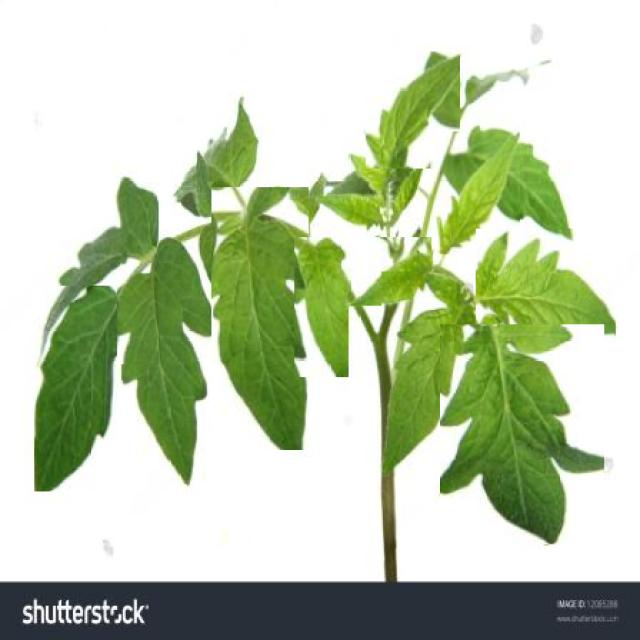Healthy: (440, 325, 604, 545), (212, 187, 308, 450), (114, 237, 216, 484), (37, 176, 159, 365), (382, 271, 484, 478), (34, 286, 117, 491), (476, 229, 616, 340), (366, 52, 460, 169), (436, 132, 520, 255), (295, 237, 349, 377), (342, 237, 432, 306)
